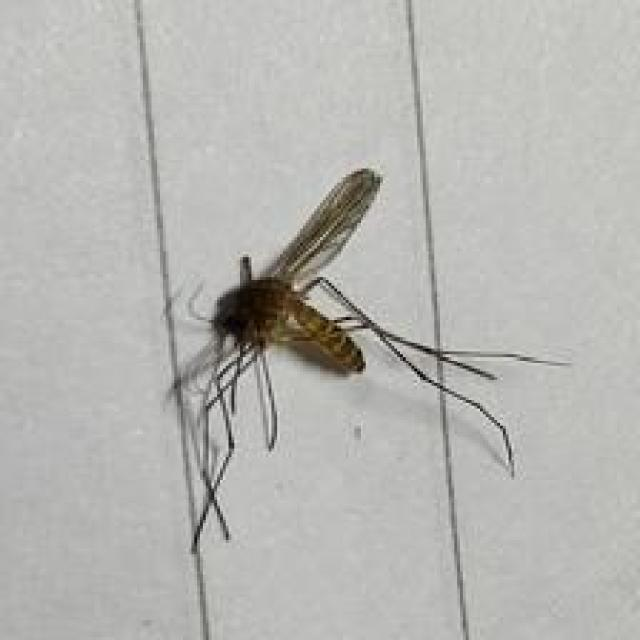Culex: (156, 163, 570, 640)
